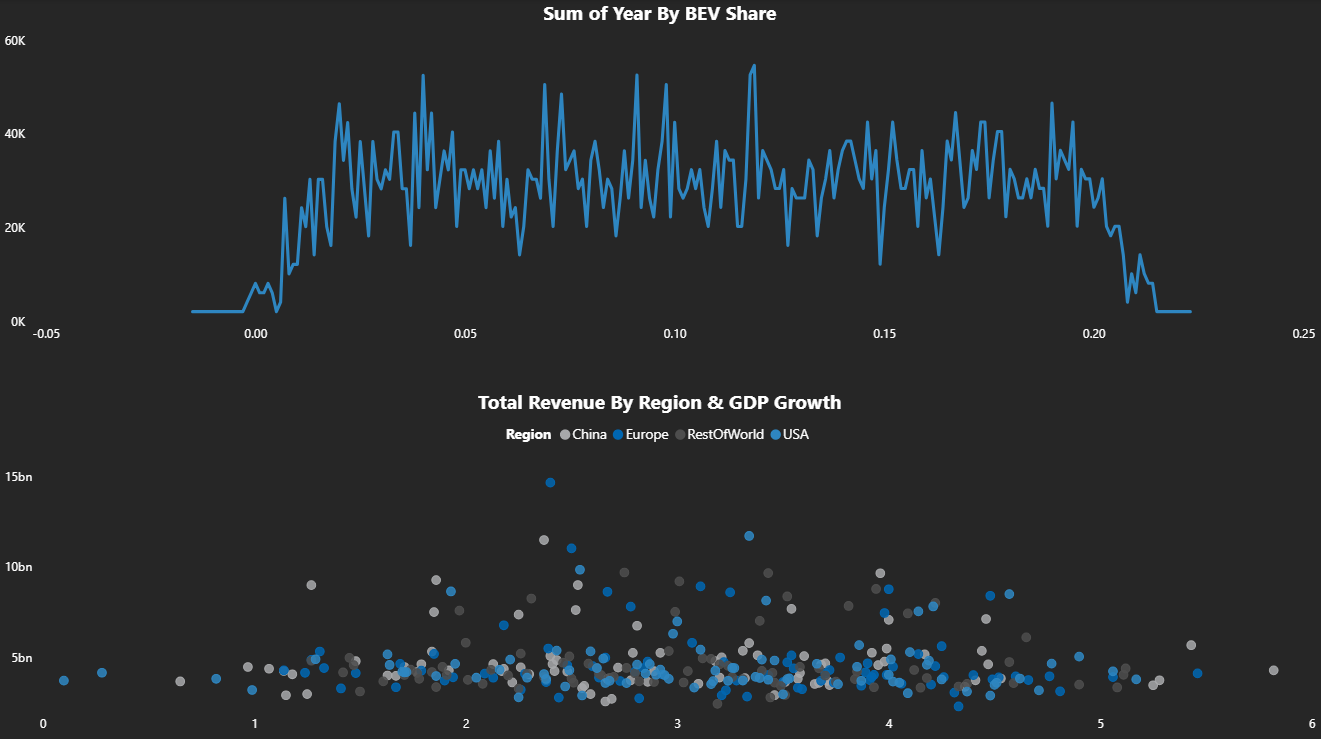

This screenshot's page, from the dashboard's own definition file:
{"tool":"powerbi","page":{"name":"Page 2","canvas":[1280,720],"ordinal":1},"visuals":[{"type":"lineChart","title":"Sum of Year By BEV Share","fields":{"Category":["bmw global sales 2018_2025.BEV Share"],"Y":["Sum(bmw global sales 2018_2025.Year)"]},"box":[0,0,1279.5,342.5],"z":0},{"type":"scatterChart","title":"Total Revenue By Region & GDP Growth","fields":{"X":["bmw global sales 2018_2025.GDP Growth"],"Y":["bmw global sales 2018_2025.Total Revenue"],"Series":["bmw global sales 2018_2025.Region"]},"box":[0,376.6,1279.5,344],"z":1}]}

Visuals, with their boxes in screenshot pixels (x1, y1, x2, y2), scaled from the page's 1280x720 canvas onto the 1321x739 screenshot:
"Sum of Year By BEV Share" lineChart: l=0, t=0, r=1320, b=352
"Total Revenue By Region & GDP Growth" scatterChart: l=0, t=387, r=1320, b=738
